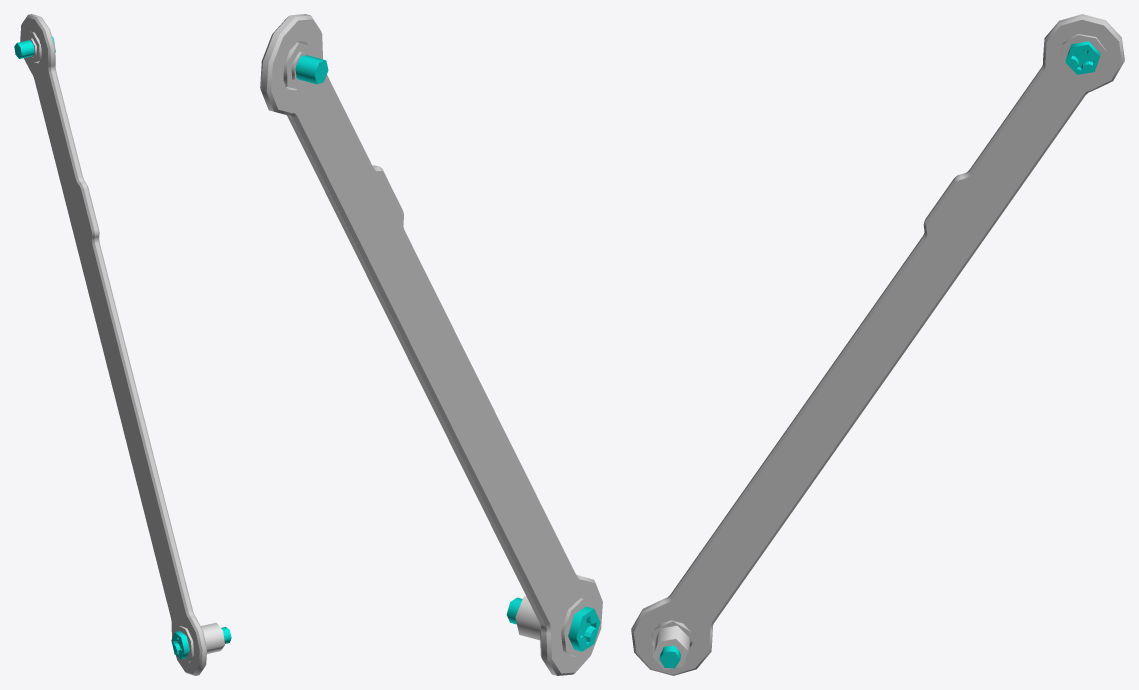
Rendered from postarm_aux3.dae.
3 renders of one model, left to right at view 1: azimuth 30°, elevation 25°; view 2: azimuth 150°, elevation 25°; view 3: azimuth 270°, elevation 25°, orthographic. The views are drawn at different scales.
Visible parts, largest first — view 1: __001; view 2: __001; view 3: __001.
Part boxes in pixels (box(x1,y1,x2,y2)): __001: box(14, 14, 231, 675); __001: box(260, 14, 602, 675); __001: box(631, 14, 1124, 675).
Size of the model in its own units: 13.73 by 94.58 by 141.
